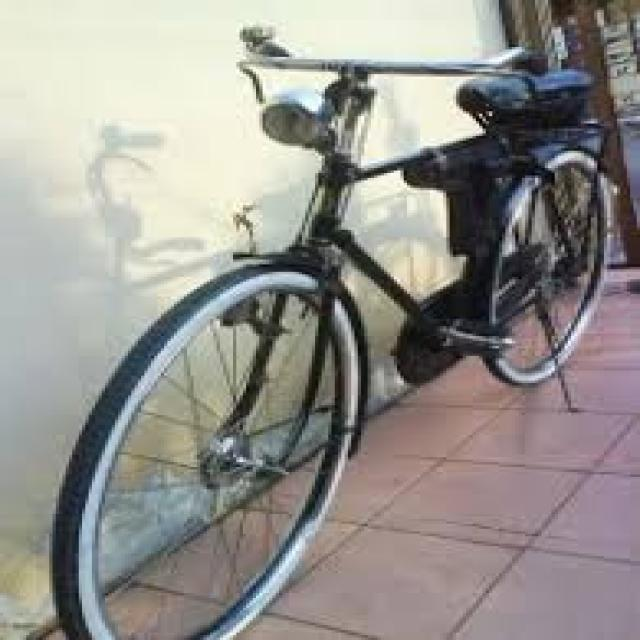bicycle: (51, 41, 620, 640)
